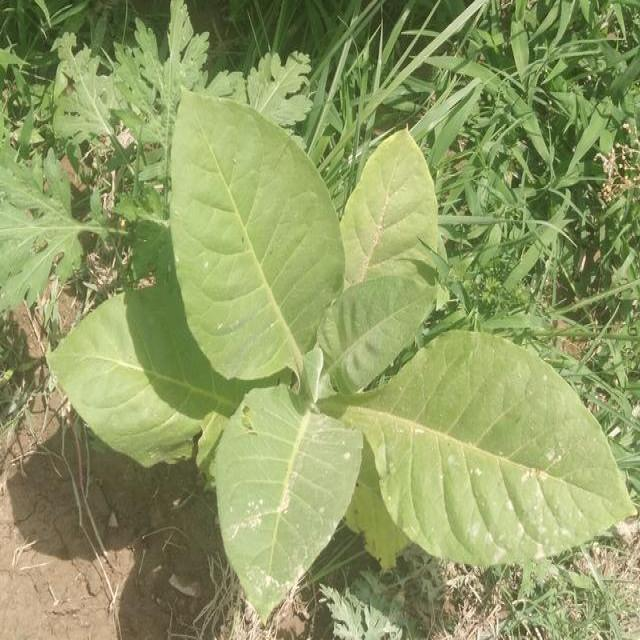crop: (46, 83, 640, 617)
